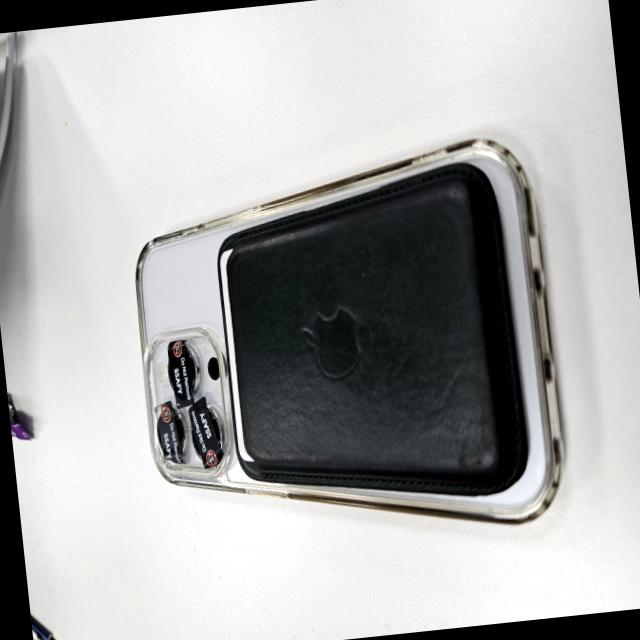phone: (120, 129, 570, 563)
sticker: (184, 394, 223, 469), (152, 399, 184, 466), (166, 338, 194, 408)
